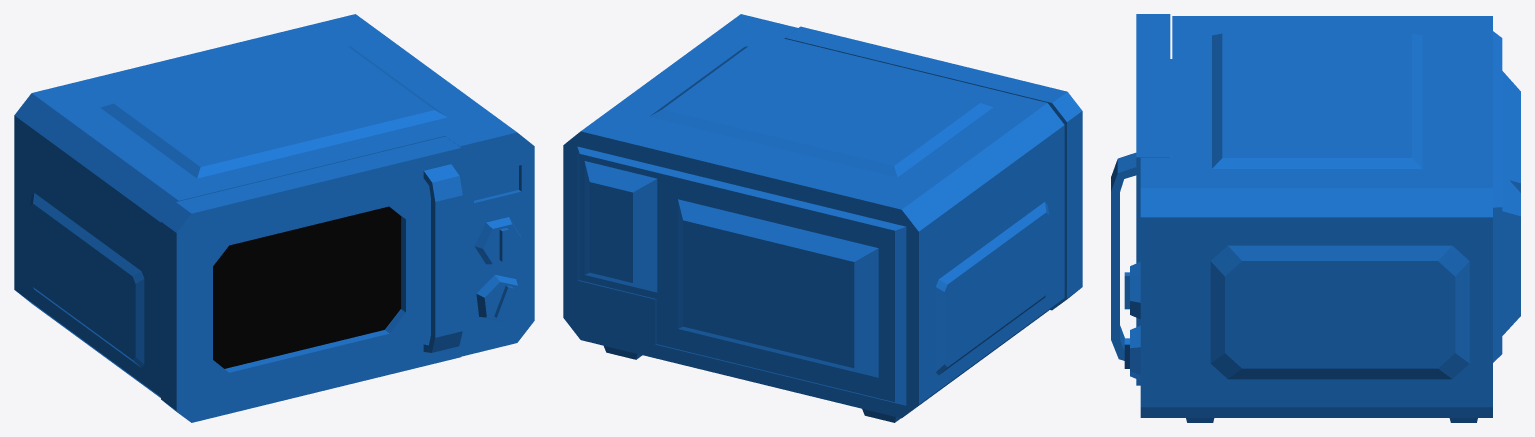
File: SM_microwave.fbx
The picture shows the model from 3 angles, left to right: view 1: azimuth 30°, elevation 25°; view 2: azimuth 150°, elevation 25°; view 3: azimuth 270°, elevation 25°; orthographic projection. The views are drawn at different scales.
Parts seen in each view (by area): view 1: Cube_24, Cube_21; view 2: Cube_24, Cube_21; view 3: Cube_24, Cube_21.
Boxes of the visible parts, <box> form: Cube_24: <box>14,14,534,397</box>; Cube_21: <box>161,136,462,422</box>; Cube_24: <box>563,14,1064,422</box>; Cube_21: <box>785,26,1082,310</box>; Cube_24: <box>1124,16,1520,422</box>; Cube_21: <box>1111,14,1172,385</box>.
Size of the model in its own units: 46.58 by 27.8 by 41.18.
